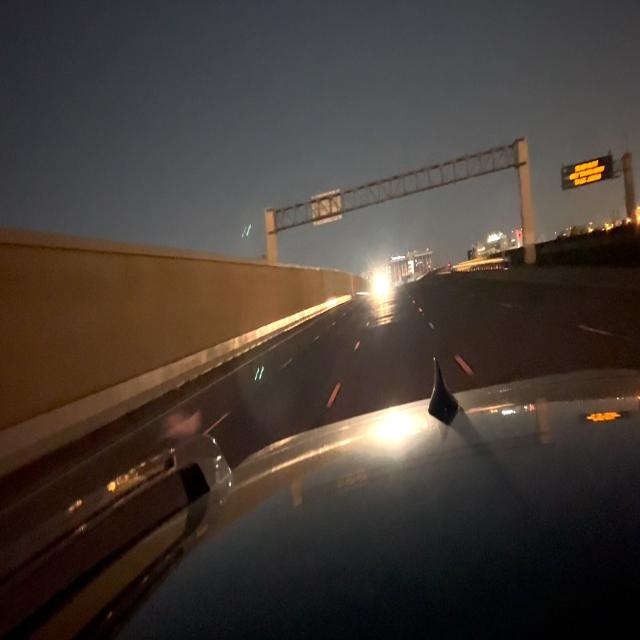back-of-sign: (308, 189, 344, 230)
